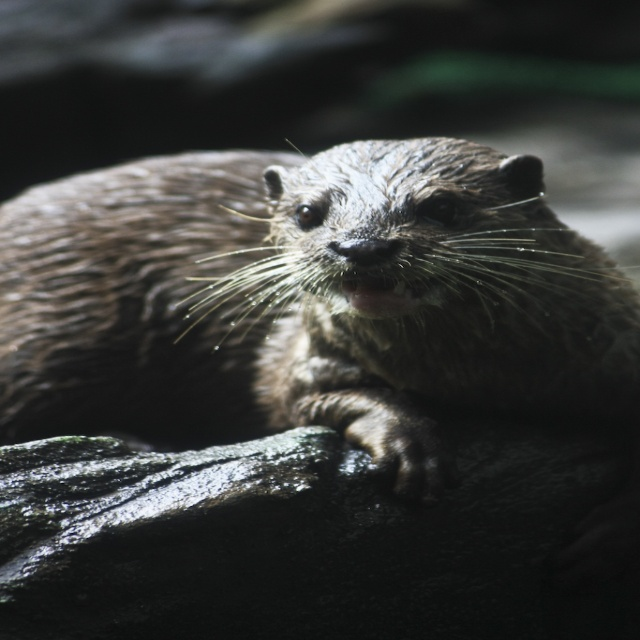Otter: (0, 135, 640, 509)
